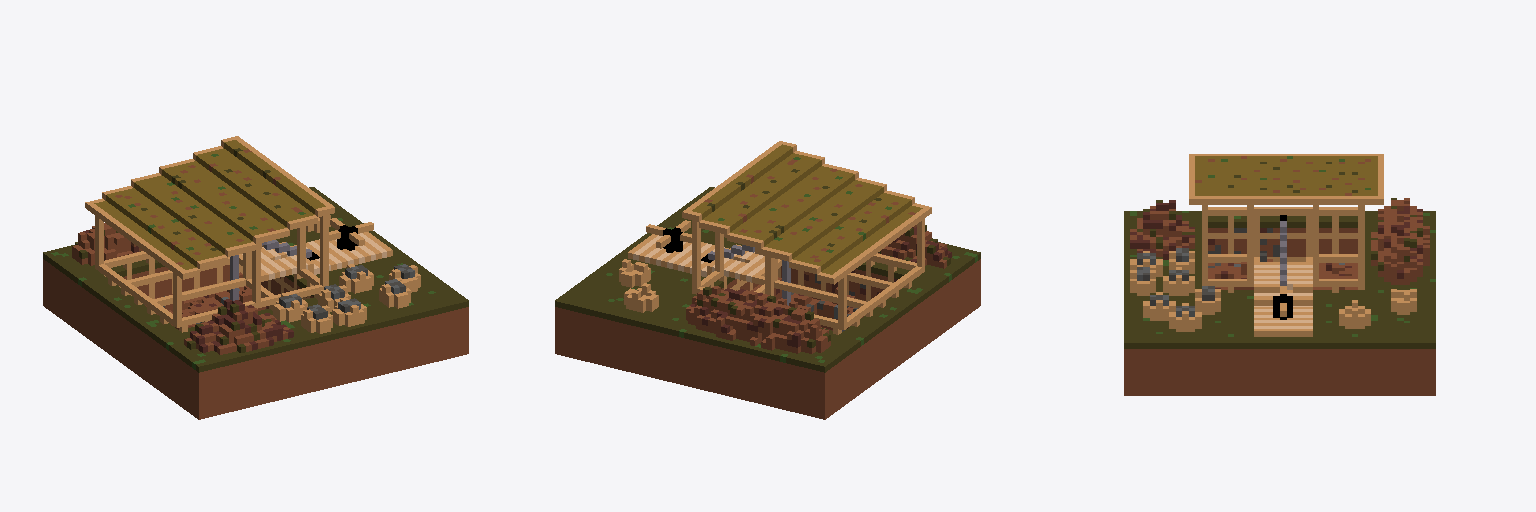
3 renders of one model, left to right at view 1: azimuth 30°, elevation 25°; view 2: azimuth 150°, elevation 25°; view 3: azimuth 270°, elevation 25°, orthographic.
Visible parts, largest first — view 1: object 1; view 2: object 1; view 3: object 1.
Part boxes in pixels (x1,y1,x2,y2): object 1: (43, 136, 468, 419); object 1: (555, 141, 980, 419); object 1: (1124, 154, 1435, 395).
Bounding box in the file's own units: 4.8 × 2.5 × 4.8.
Materials: 1 (1 with a texture image).